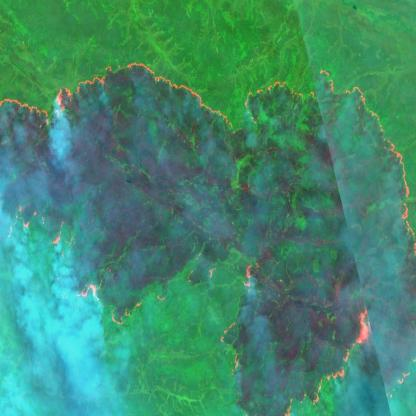fire: (0, 59, 416, 416)
